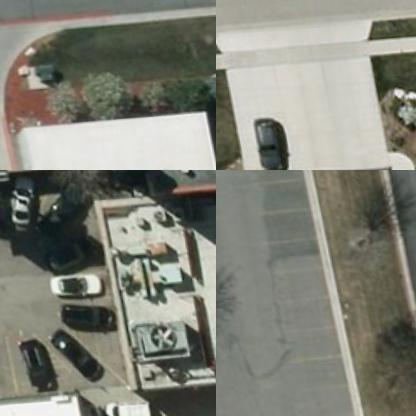car: (46, 322, 103, 386), (246, 115, 289, 169), (0, 175, 39, 234), (13, 338, 52, 392), (53, 298, 110, 332), (47, 270, 104, 304), (42, 238, 91, 272), (93, 396, 153, 415)
